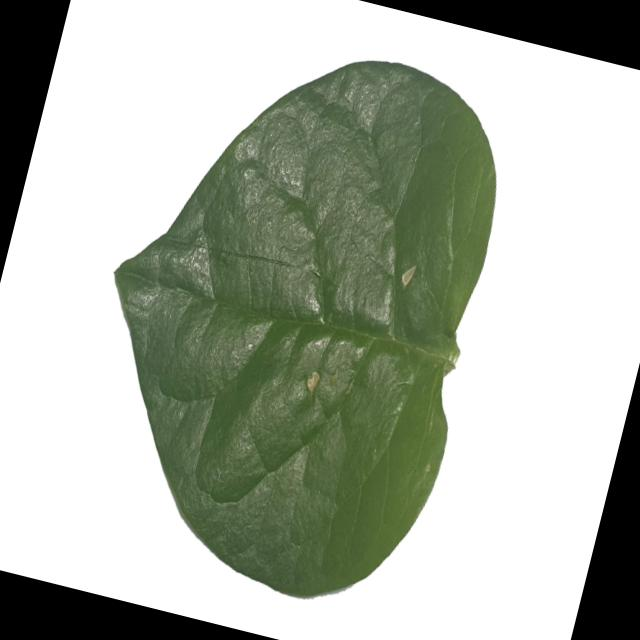Medicinal-Basale: (48, 6, 534, 621)
